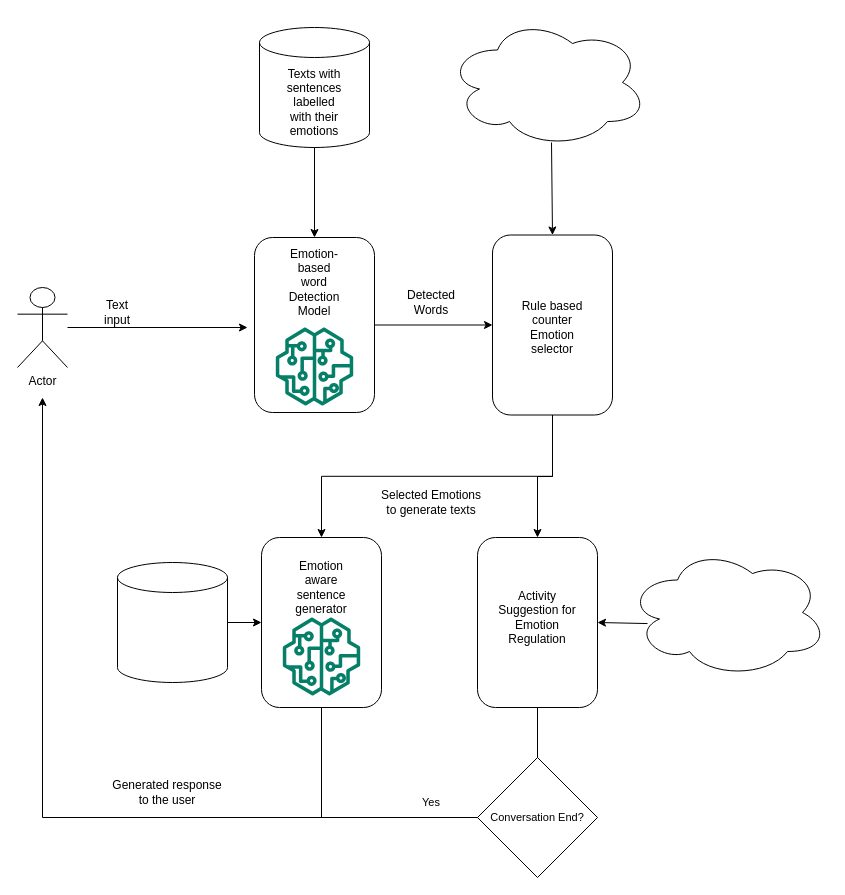
This 845x895 diagram has some shape labels left out. Here are the shapes that lost their labels. From the top down, the centre of each, then its label:
At (x=547, y=82): "Set of rules derived from core affect space".
At (x=172, y=622): "Conversation dataset for chatbot construction".
At (x=727, y=612): "Set of rules for activity selection".
